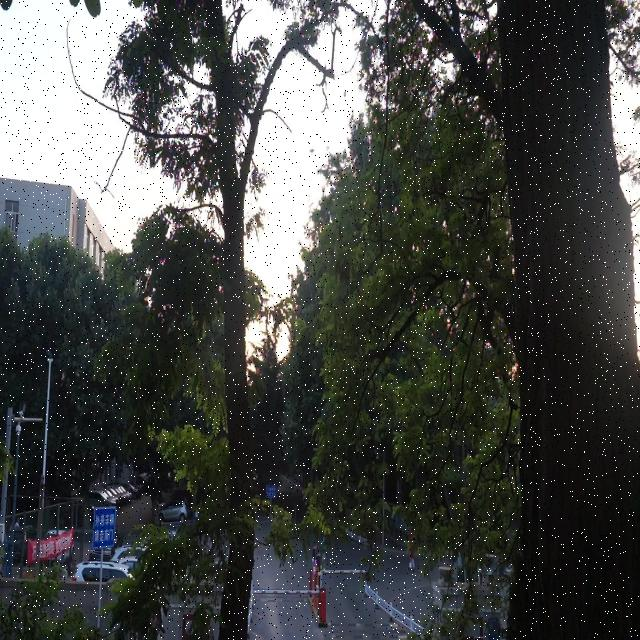UAV: (309, 149, 315, 155)
